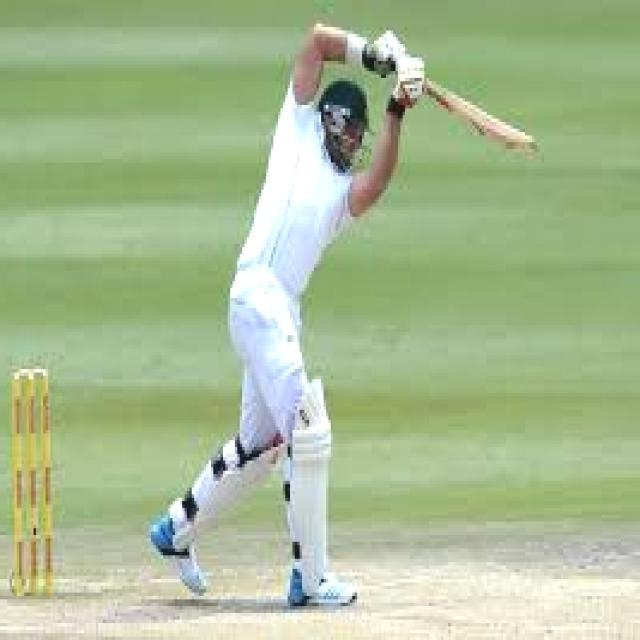toe: (502, 122, 540, 166)
